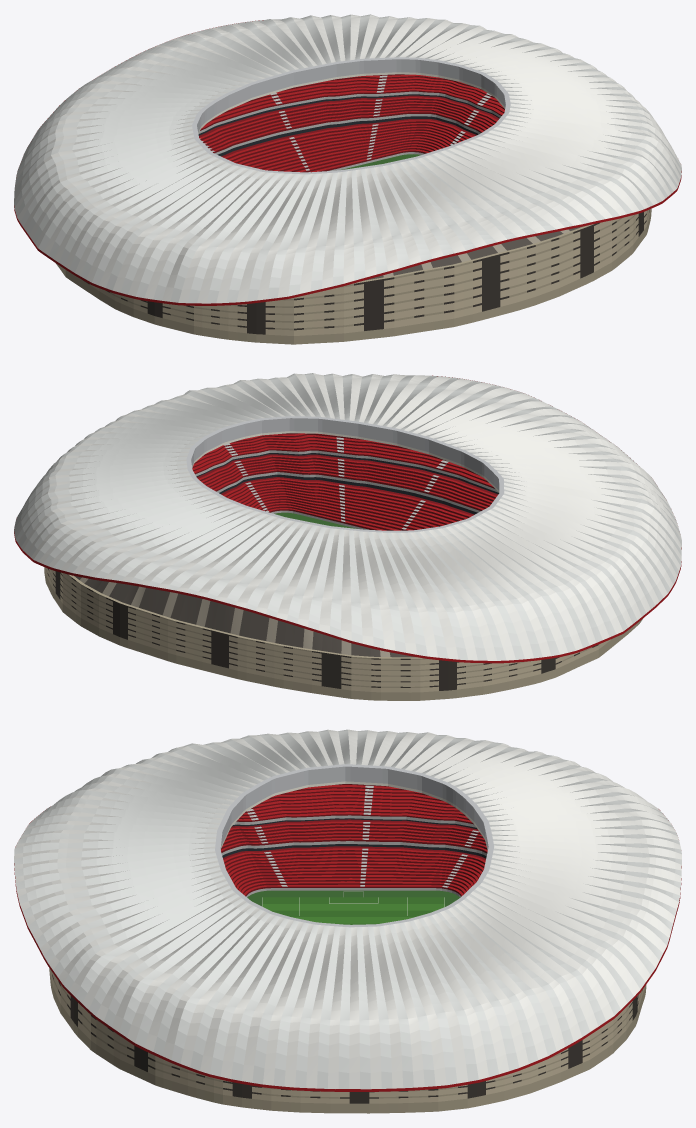
3 views of the same model, one above another, from view 1: azimuth 30°, elevation 25°; view 2: azimuth 150°, elevation 25°; view 3: azimuth 270°, elevation 25° (orthographic). The views are drawn at different scales.
Parts seen in each view (by area): view 1: roof, stands_and_buildings; view 2: roof, stands_and_buildings; view 3: roof, stands_and_buildings, pitch.
Boxes of the visible parts, left/top/right/bottom form: roof: left=14, top=14, right=681, bottom=305; stands_and_buildings: left=56, top=74, right=651, bottom=344; roof: left=14, top=373, right=681, bottom=663; stands_and_buildings: left=44, top=433, right=643, bottom=700; roof: left=14, top=729, right=681, bottom=1091; stands_and_buildings: left=49, top=784, right=646, bottom=1113; pitch: left=247, top=890, right=459, bottom=924.
Size of the model in its own units: 287 by 50.4 by 249.
